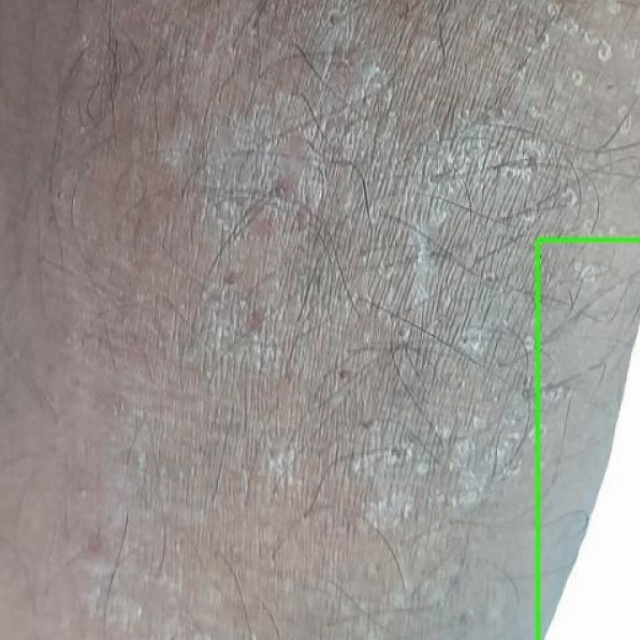Contact Dermatitis: (537, 240, 639, 639)
